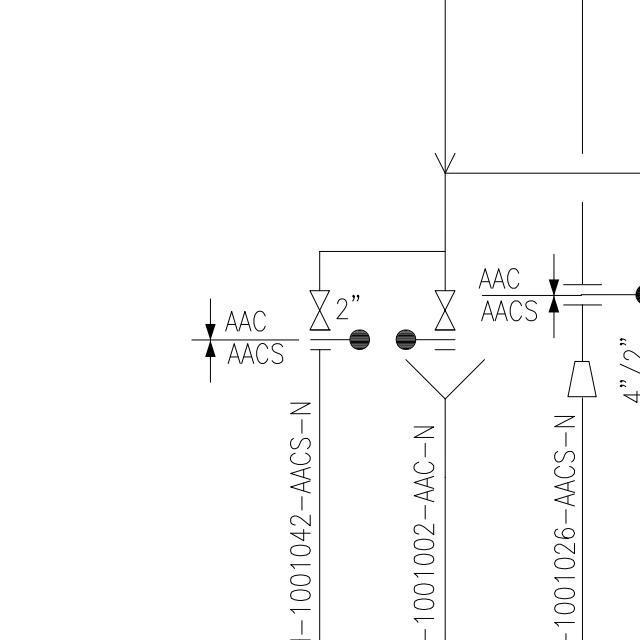GV: (432, 285, 460, 334), (307, 285, 334, 333)
SP: (565, 353, 601, 402)
